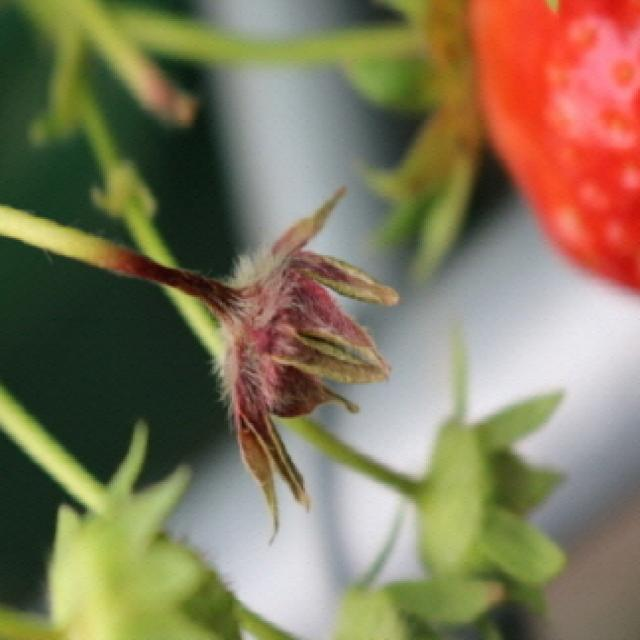Gray Mold: (119, 187, 406, 544)
